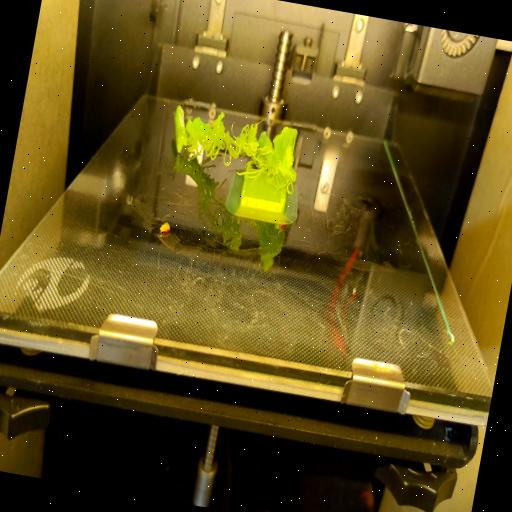spaghetti: (180, 101, 308, 191)
